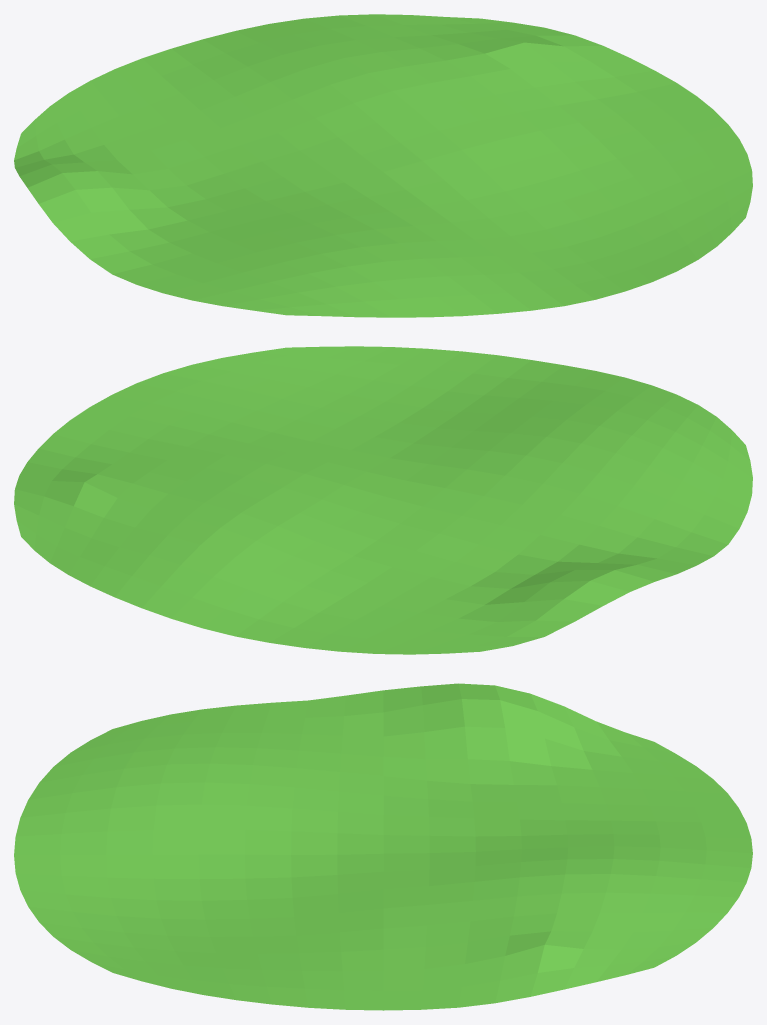
Rendered from Low Poly Sculpted Terrain_500_Tris.fbx.
3 views of the same model, one above another, from view 1: azimuth 30°, elevation 25°; view 2: azimuth 150°, elevation 25°; view 3: azimuth 270°, elevation 25° (orthographic). The views are drawn at different scales.
Parts seen in each view (by area): view 1: LowPoly_Terrain_500_Tris; view 2: LowPoly_Terrain_500_Tris; view 3: LowPoly_Terrain_500_Tris.
Boxes of the visible parts, x1,y1,x2,y2 form: LowPoly_Terrain_500_Tris: (14, 14, 752, 317); LowPoly_Terrain_500_Tris: (14, 346, 752, 654); LowPoly_Terrain_500_Tris: (14, 683, 752, 1010).
Bounding box in the file's own units: 1192 × 60.11 × 1192.
